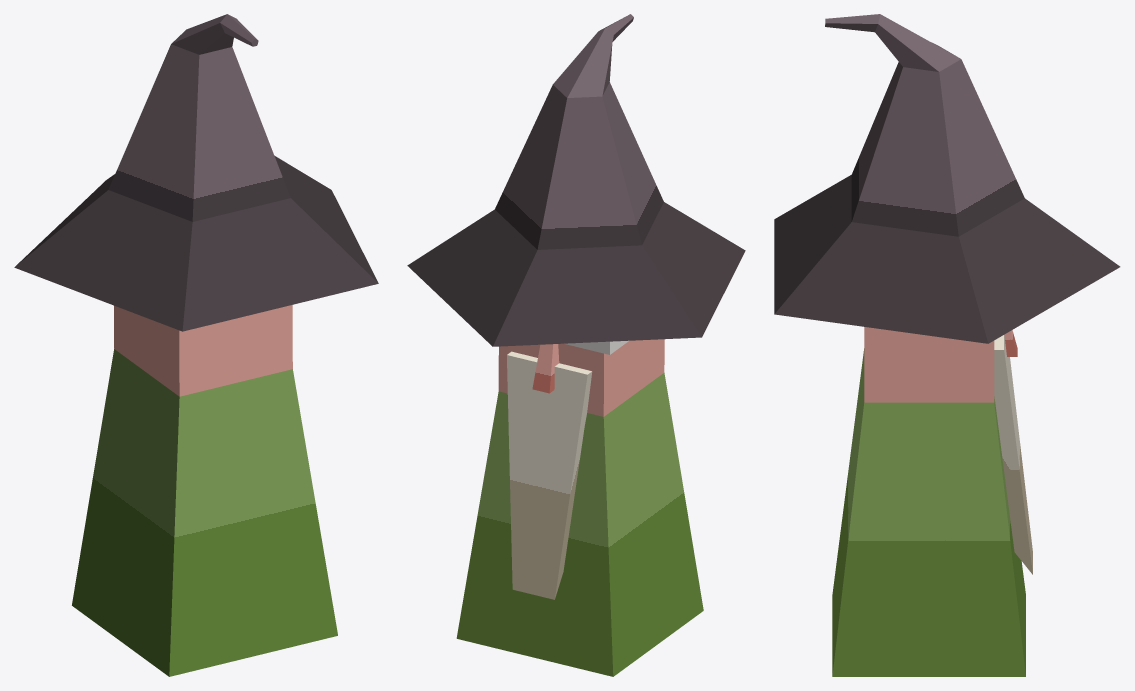
File: Mage.fbx
The picture shows the model from 3 angles, left to right: view 1: azimuth 30°, elevation 25°; view 2: azimuth 150°, elevation 25°; view 3: azimuth 270°, elevation 25°; orthographic projection. The views are drawn at different scales.
Visible parts, largest first — view 1: Body, Hat; view 2: Hat, Body, Beard, Nose; view 3: Hat, Body, Beard.
Part boxes in pixels (bbox=[...]): Body: bbox=[72, 305, 337, 676]; Hat: bbox=[14, 14, 378, 331]; Hat: bbox=[407, 14, 745, 346]; Body: bbox=[456, 339, 703, 676]; Beard: bbox=[507, 351, 592, 599]; Nose: bbox=[532, 344, 559, 393]; Hat: bbox=[774, 14, 1120, 343]; Body: bbox=[832, 327, 1025, 676]; Beard: bbox=[994, 335, 1032, 574].
Size of the model in its own units: 140 by 264 by 133.
